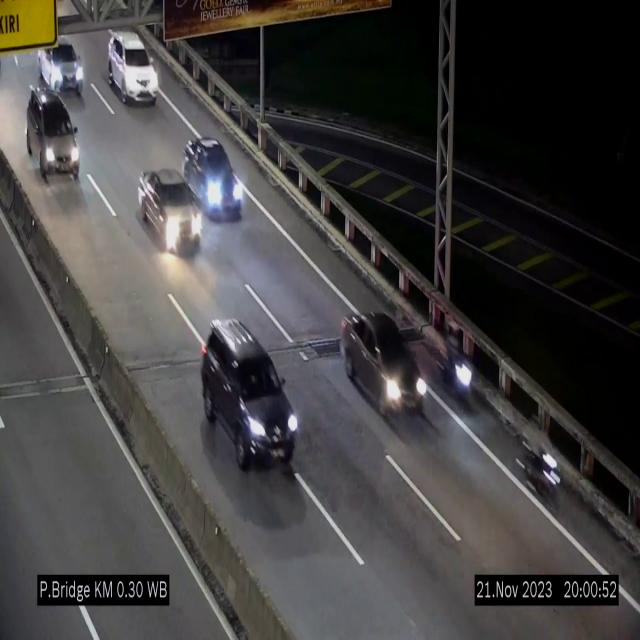Car: (201, 321, 299, 470), (340, 298, 430, 429), (23, 87, 82, 186), (137, 168, 202, 255), (183, 137, 242, 215), (108, 32, 159, 104), (33, 30, 85, 99)
Motorcycle: (524, 418, 564, 518), (444, 321, 480, 414)
